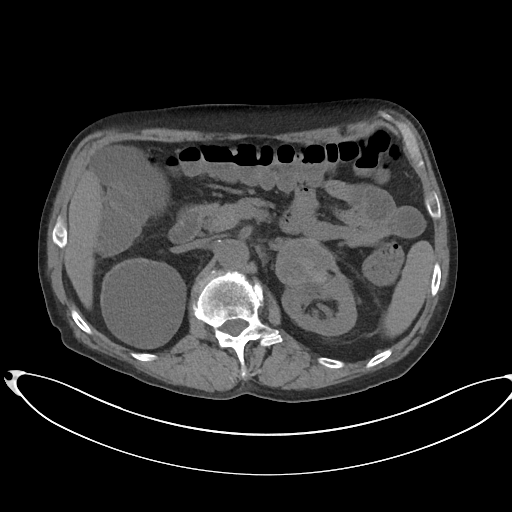Lesion: (269, 235, 340, 287)
